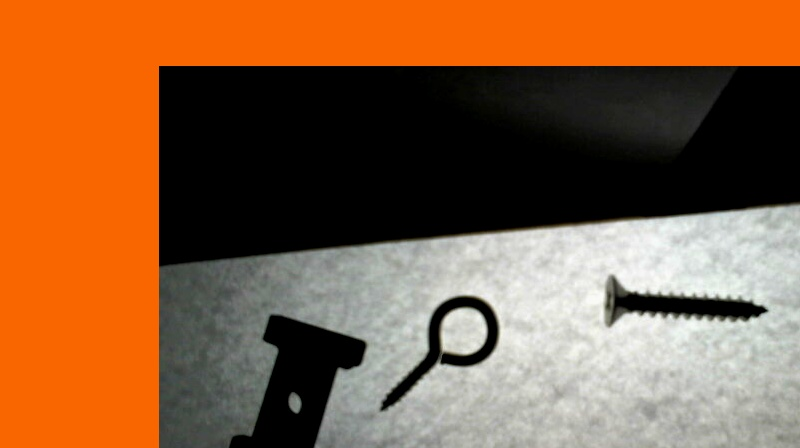O001: (376, 290, 505, 410)
O002: (225, 315, 367, 447)
S001: (600, 273, 771, 333)
